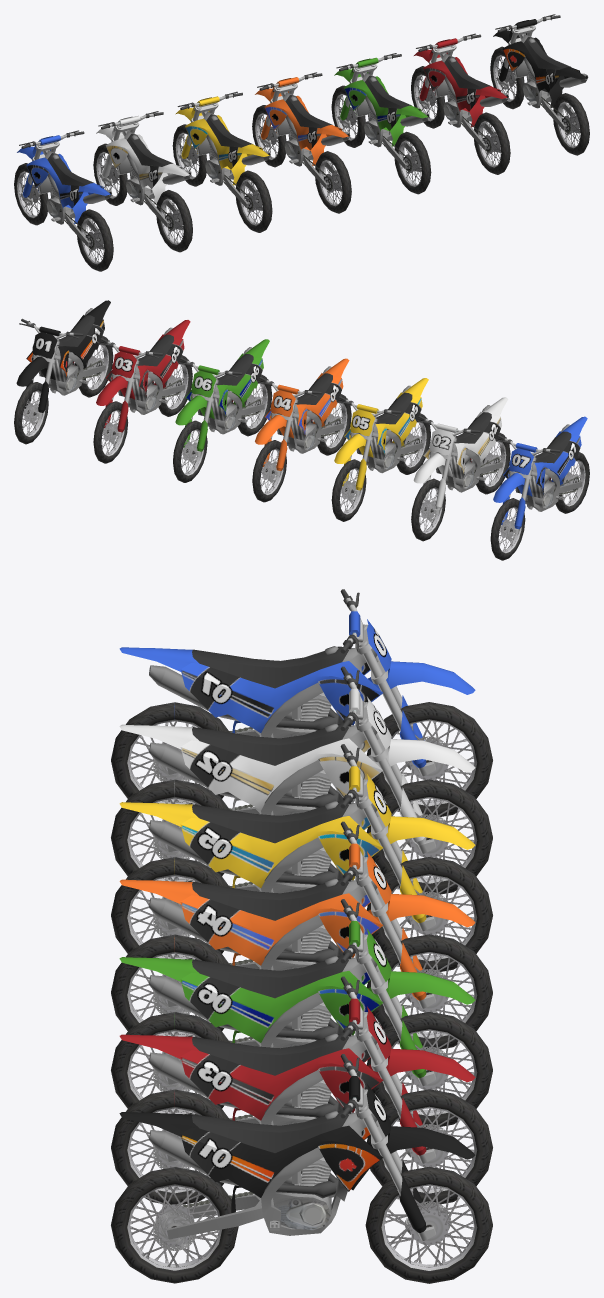
File: mid_poly_dirt_bike.glb
3 views of the same model, one above another, from view 1: azimuth 30°, elevation 25°; view 2: azimuth 150°, elevation 25°; view 3: azimuth 270°, elevation 25° (orthographic). The views are drawn at different scales.
Visible parts, largest first — view 1: dirt_bike orange, dirt_bike black, dirt_bike white, dirt_bike green, dirt_bikeblue, dirt_bike yellow, dirt_bike red, rear_wheel.004, rear_wheel.003, rear_wheel.002, rear_wheel.005, rear_wheel.006 (+30 smaller); view 2: dirt_bike orange, dirt_bike yellow, dirt_bike black, dirt_bike white, dirt_bikeblue, dirt_bike green, dirt_bike red, throttle.005, throttle.003, throttle.007, throttle.002, throttle.004 (+23 smaller); view 3: dirt_bike black, dirt_bike yellow, dirt_bikeblue, dirt_bike red, dirt_bike green, dirt_bike orange, dirt_bike white, rear_wheel.004, front_wheel.004, front_wheel.003, front_wheel.007, front_wheel.005 (+25 smaller).
Part boxes in pixels (box(x1,y1,x2,y2)): dirt_bike orange: box(264, 91, 348, 166); dirt_bike black: box(502, 33, 586, 108); dirt_bike white: box(105, 130, 189, 205); dirt_bike green: box(344, 72, 427, 147); dirt_bikeblue: box(26, 150, 110, 224); dirt_bike yellow: box(185, 111, 269, 185); dirt_bike red: box(423, 53, 507, 127); rear_wheel.004: box(553, 93, 589, 155); rear_wheel.003: box(474, 112, 510, 174); rear_wheel.002: box(394, 131, 431, 194); rear_wheel.005: box(77, 209, 113, 271); rear_wheel.006: box(156, 190, 192, 252); dirt_bike orange: box(264, 358, 349, 453); dirt_bike yellow: box(344, 378, 428, 473); dirt_bike black: box(26, 300, 110, 395); dirt_bike white: box(423, 397, 508, 492); dirt_bikeblue: box(503, 416, 587, 511); dirt_bike green: box(185, 339, 269, 434); dirt_bike red: box(106, 320, 190, 414); throttle.005: box(493, 435, 560, 502); throttle.003: box(96, 338, 163, 405); throttle.007: box(334, 396, 401, 463); throttle.002: box(175, 357, 242, 425); throttle.004: box(16, 318, 83, 386); dirt_bike black: box(119, 1111, 382, 1235); dirt_bike yellow: box(119, 801, 382, 892); dirt_bikeblue: box(119, 646, 382, 737); dirt_bike red: box(119, 1033, 383, 1124); dirt_bike green: box(119, 956, 382, 1047); dirt_bike orange: box(119, 878, 383, 969); dirt_bike white: box(119, 723, 382, 814); rear_wheel.004: box(111, 1167, 238, 1283); front_wheel.004: box(365, 1166, 492, 1283); front_wheel.003: box(366, 1089, 492, 1204); front_wheel.007: box(366, 857, 492, 972); front_wheel.005: box(367, 702, 492, 817).
Size of the model in its own units: 6.78 by 1.21 by 2.09.
7 materials, 7 textured.
